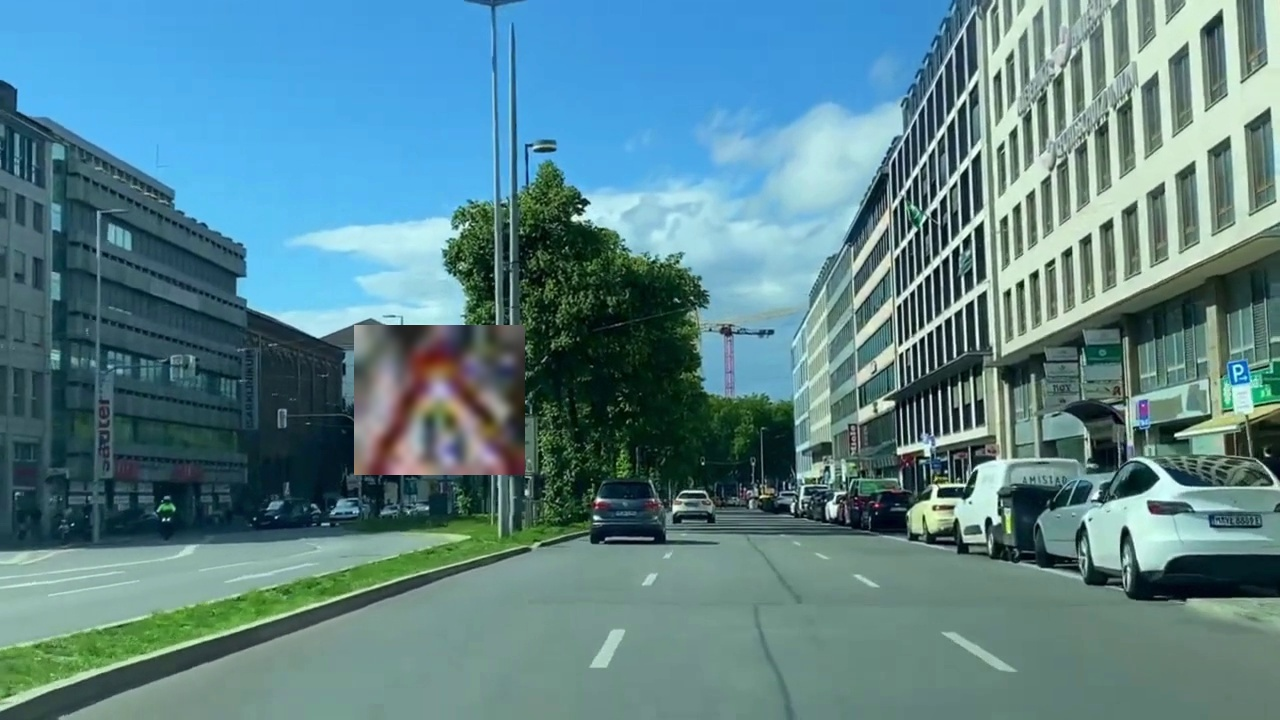Road narrows: (354, 325, 525, 475)
